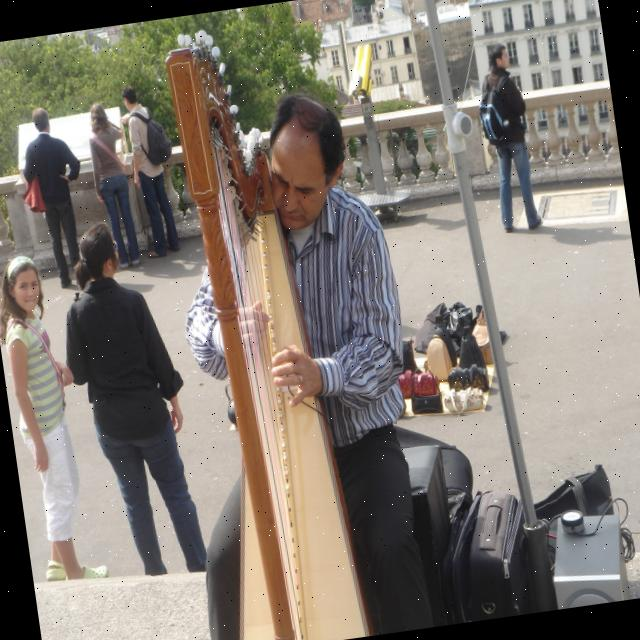harp: (151, 17, 377, 640)
